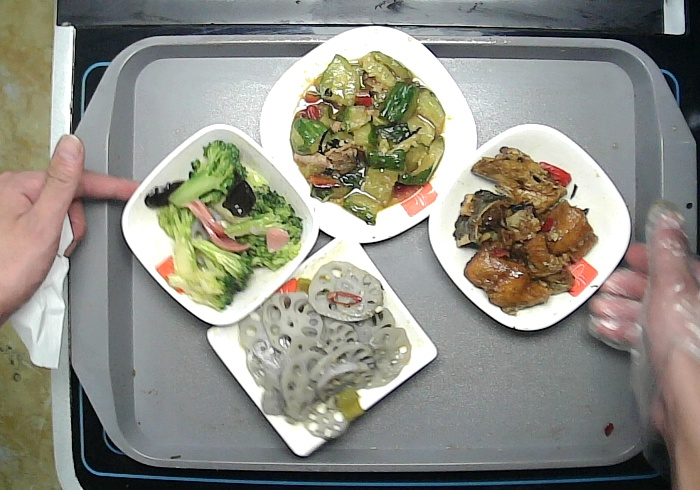SHKJ-Bai_Se_Cai_Die: (425, 121, 636, 334)
SHKJ-Bai_Se_Si_Fang_Cai_Die: (258, 25, 478, 245)
SHKJ-Bai_Se_Xiao_Fang_Die: (118, 119, 321, 329)
SHKJ-Si_Fang_Min: (206, 231, 439, 458)
